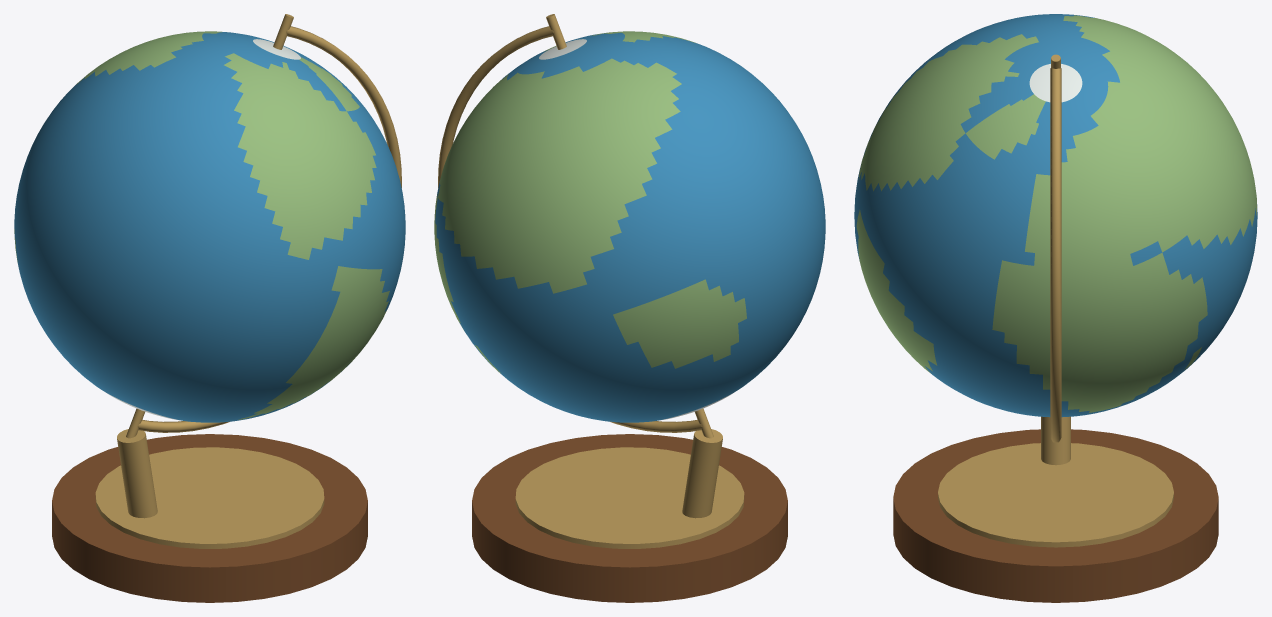
The model's file is desktop_globe.glb.
3 renders of one model, left to right at view 1: azimuth 30°, elevation 25°; view 2: azimuth 150°, elevation 25°; view 3: azimuth 270°, elevation 25°, orthographic. The views are drawn at different scales.
Visible parts, largest first — view 1: Earth sphere with embedded land colors, Circular wooden display base, Brass base inset, Brass semicircular meridian, Angled globe support, Polar spindle; view 2: Earth sphere with embedded land colors, Circular wooden display base, Brass base inset, Brass semicircular meridian, Angled globe support, Polar spindle; view 3: Earth sphere with embedded land colors, Circular wooden display base, Brass base inset, Brass semicircular meridian, Angled globe support.
Boxes of the visible parts, x1,y1,x2,y2 form: Earth sphere with embedded land colors: [14, 31, 405, 422]; Circular wooden display base: [52, 434, 367, 602]; Brass base inset: [95, 447, 324, 548]; Brass semicircular meridian: [138, 26, 401, 432]; Angled globe support: [117, 429, 157, 518]; Polar spindle: [126, 14, 293, 438]; Earth sphere with embedded land colors: [434, 31, 825, 422]; Circular wooden display base: [472, 434, 787, 602]; Brass base inset: [515, 447, 744, 548]; Brass semicircular meridian: [438, 26, 701, 432]; Angled globe support: [682, 429, 722, 518]; Polar spindle: [546, 14, 713, 438]; Earth sphere with embedded land colors: [854, 14, 1257, 417]; Circular wooden display base: [893, 429, 1218, 602]; Brass base inset: [938, 443, 1173, 547]; Brass semicircular meridian: [1050, 68, 1061, 442]; Angled globe support: [1041, 416, 1070, 465].
Bounding box in the file's own units: 0.2974 × 0.3967 × 0.28.
